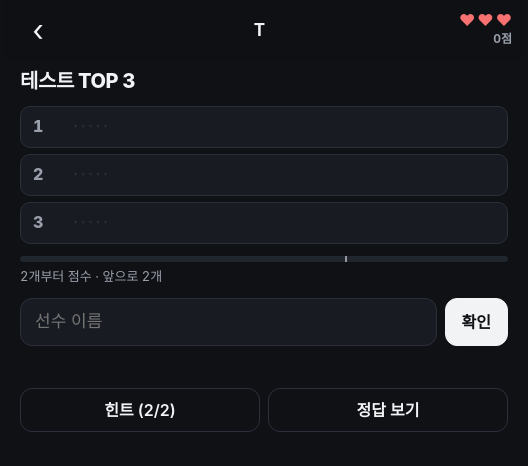
Test: Top10Game › 목숨 0 → 못 맞힌 정답 전부 공개 + trivia + 다음 문제
Type "x1" into the field. click: (228, 322)
box: x1=20 y1=298 x2=436 y2=346
Then press Enter
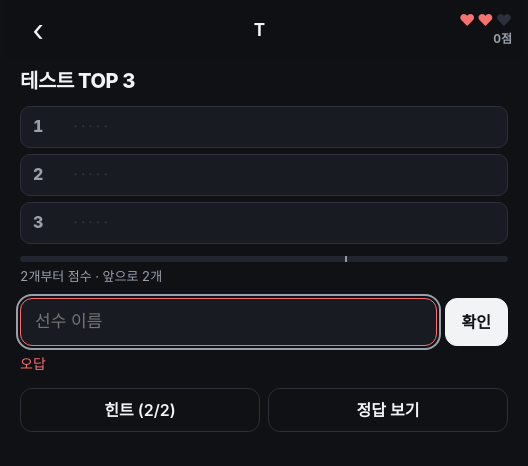
Type "x2" into the field. click: (228, 322)
box: x1=20 y1=298 x2=436 y2=346
Then press Enter
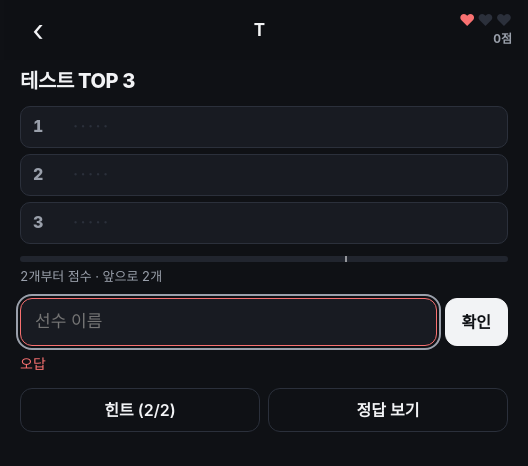
Type "x3" into the field. click: (228, 322)
box: x1=20 y1=298 x2=436 y2=346
Then press Enter
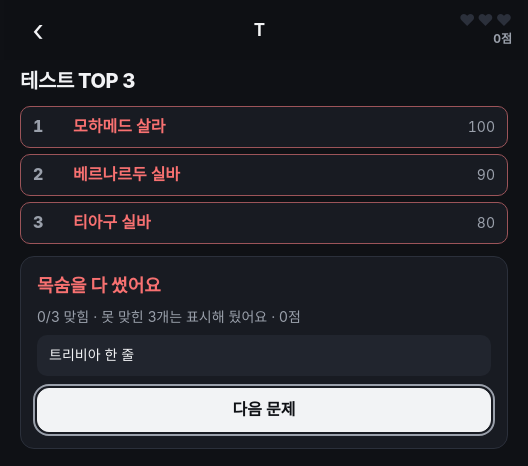
Expected: the heading "목숨을 다 썼어요" is shown, x1=37 y1=275 x2=161 y2=296
Expected: the text "모하메드 살라" is shown, x1=73 y1=116 x2=165 y2=136
Expected: the text "베르나르두 실바" is shown, x1=73 y1=164 x2=180 y2=184
